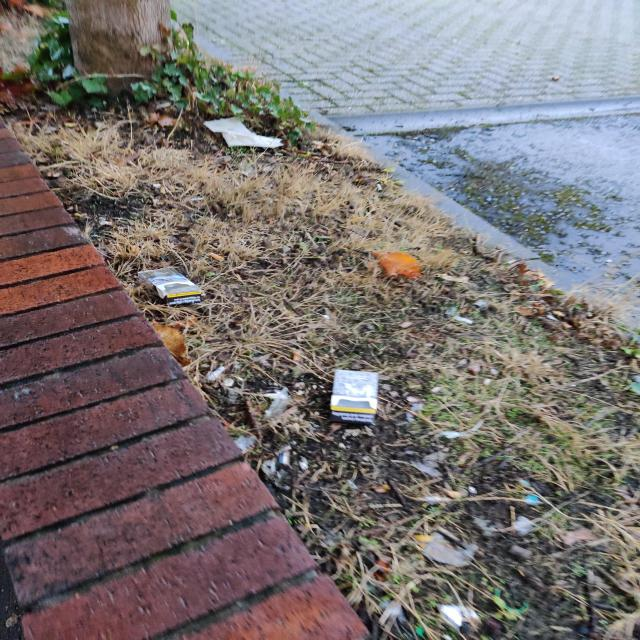litter: (132, 263, 207, 306), (330, 369, 381, 429), (197, 118, 283, 148)
